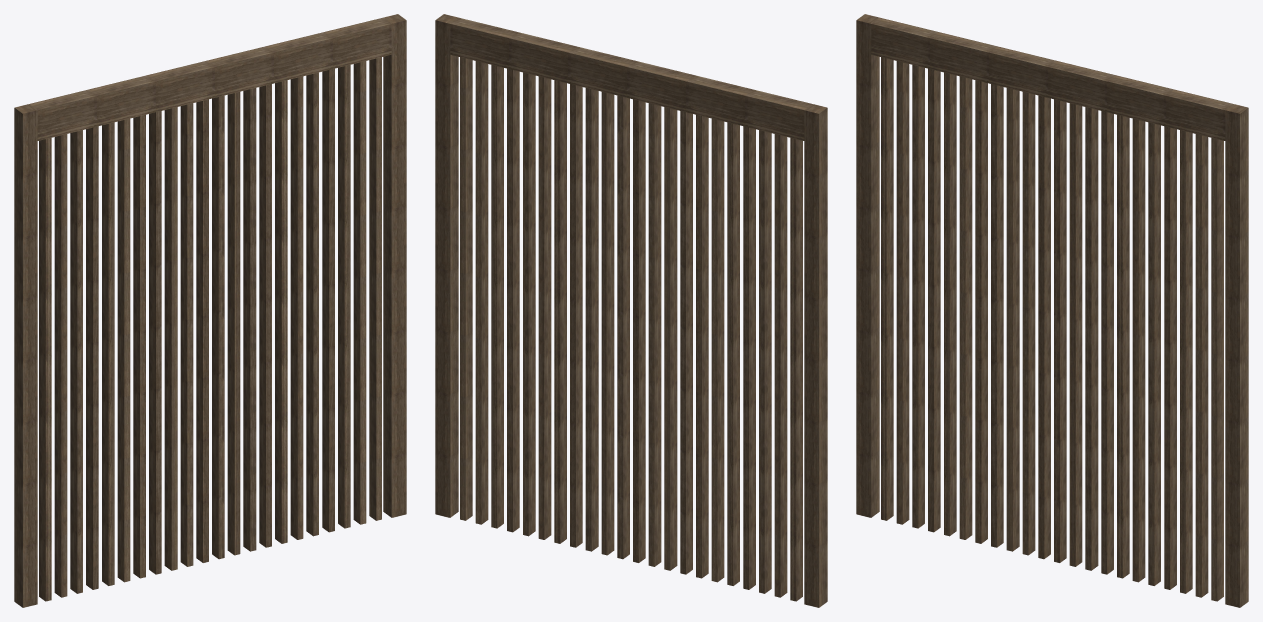
File: 2400-1950_brownebony.fbx
3 views of the same model, side by side, from view 1: azimuth 30°, elevation 25°; view 2: azimuth 150°, elevation 25°; view 3: azimuth 330°, elevation 25° (orthographic).
Visible parts, largest first — view 1: 2400-1950_brownebony; view 2: 2400-1950_brownebony; view 3: 2400-1950_brownebony.
Part boxes in pixels (<box>): 2400-1950_brownebony: <box>14,14,406,607</box>; 2400-1950_brownebony: <box>435,14,827,607</box>; 2400-1950_brownebony: <box>856,14,1248,607</box>.
Bounding box in the file's own units: 195 × 240 × 7.5.
1 material, 1 textured.
